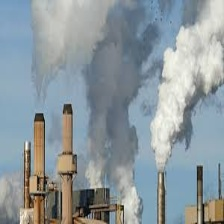smoke: (151, 13, 217, 174), (28, 1, 124, 88), (87, 96, 131, 187)
